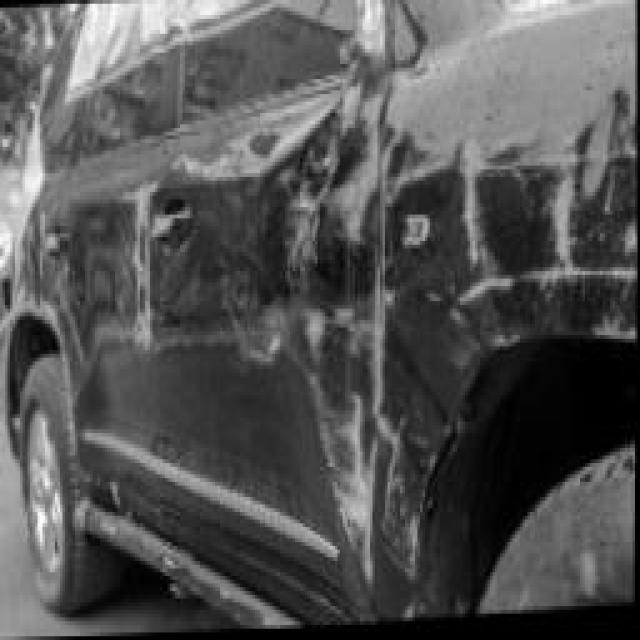Door: (70, 83, 409, 580)
Fender: (388, 0, 640, 392)
